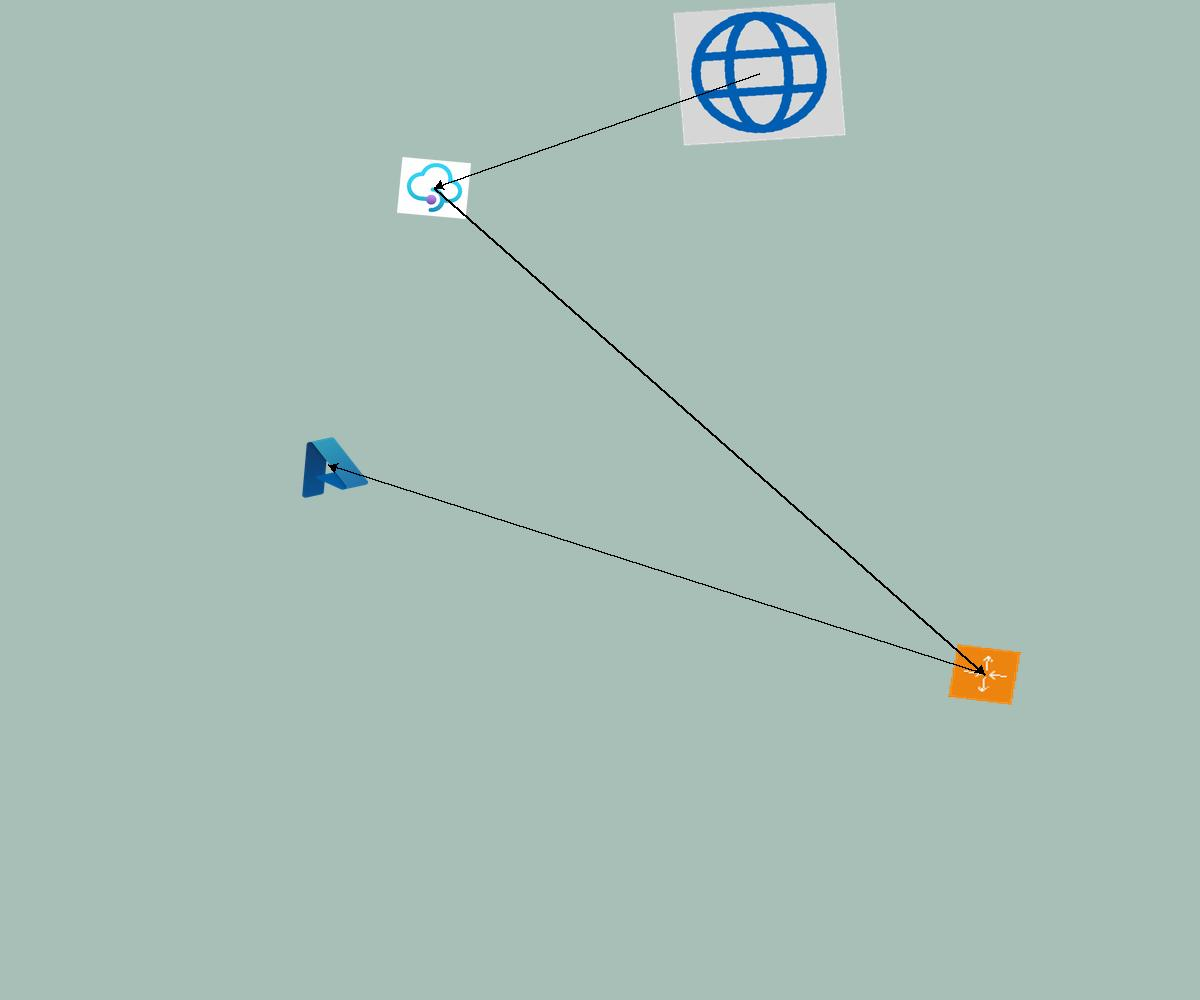AWS-Scaling-group: (948, 644, 1021, 705)
Azure_api_gateway: (397, 157, 471, 219)
Azure_http: (673, 2, 846, 146)
Azure_services: (283, 428, 373, 503)
